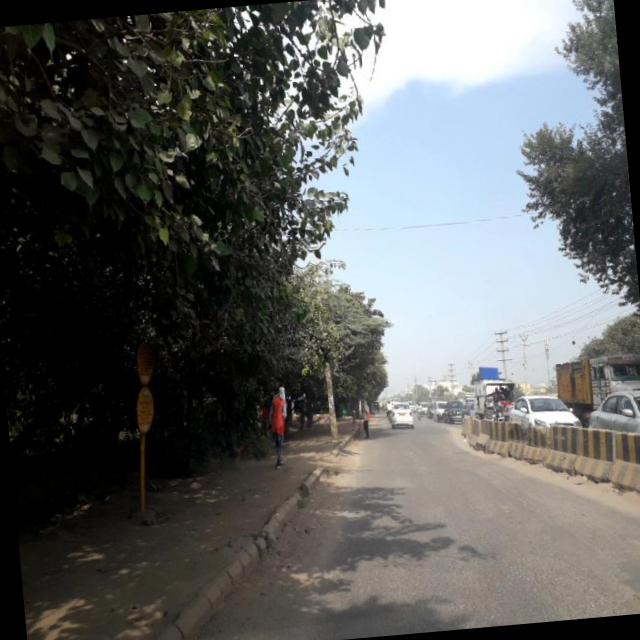pothole: (550, 519, 640, 616), (474, 464, 549, 532)
